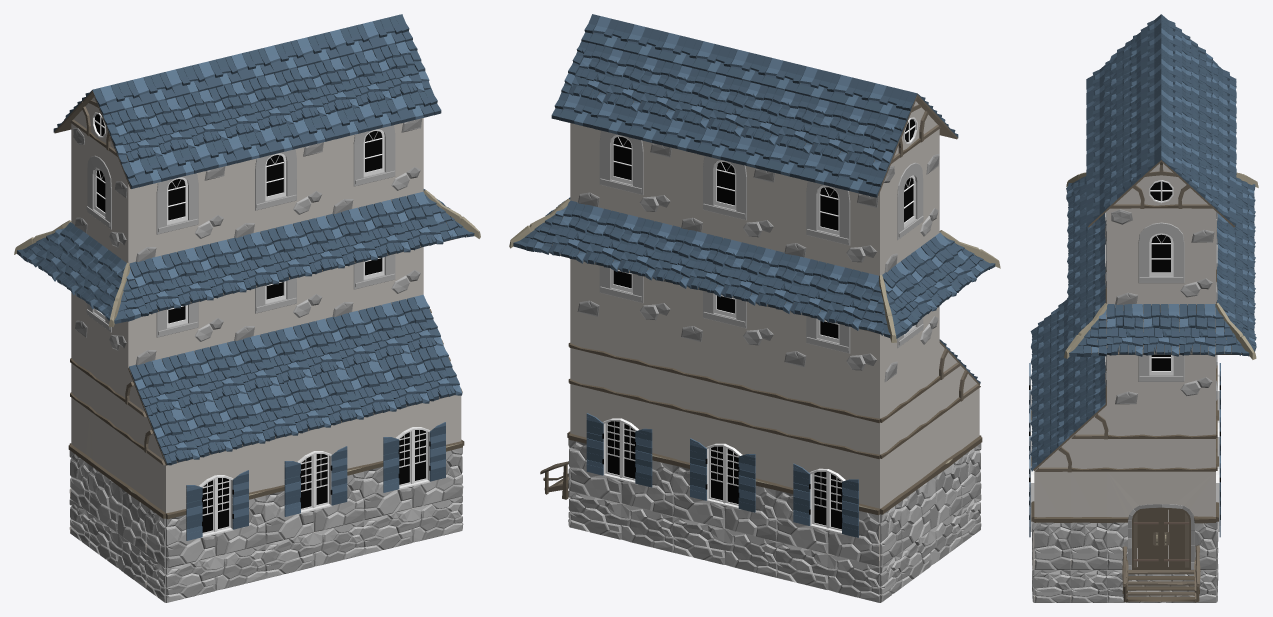
Rendered from house_18.fbx.
3 views of the same model, side by side, from view 1: azimuth 30°, elevation 25°; view 2: azimuth 150°, elevation 25°; view 3: azimuth 270°, elevation 25° (orthographic). The views are drawn at different scales.
Visible parts, largest first — view 1: WINDOW_03_5, WINDOW_03_3, WINDOW_03_4, WINDOW_07_11, WINDOW_07_12, WINDOW_07_13, WALL_01_14, WINDOW_07_18, WINDOW_07_6, WINDOW_07_5, WINDOW_07_4, FOUNDATION_01_2 (+75 smaller); view 2: WINDOW_03_8, WINDOW_03_7, WINDOW_03_6, WINDOW_07_17, WINDOW_07_16, WINDOW_07_15, WALL_01_14, WINDOW_07_18, WINDOW_07_8, WINDOW_07_7, WINDOW_07_9, FOUNDATION_01_8 (+75 smaller); view 3: DOOR_04_3, WINDOW_07_14, WINDOW_07_10, WALL_04_21, WALL_04_22, STAIRS_01_2, ROOF_base_105, ROOF_base_104, ROOF_base_103, FOUNDATION_01_5, ROOF_CORNER_OUT_6, ROOF_CORNER_OUT_7 (+81 smaller).
Boxes of the visible parts, bbox=[...] form: WINDOW_03_5: bbox=[363, 395, 462, 520]; WINDOW_03_3: bbox=[165, 443, 266, 568]; WINDOW_03_4: bbox=[264, 419, 364, 544]; WINDOW_07_11: bbox=[128, 166, 226, 262]; WINDOW_07_12: bbox=[226, 142, 324, 240]; WINDOW_07_13: bbox=[325, 118, 423, 216]; WALL_01_14: bbox=[87, 411, 147, 553]; WINDOW_07_18: bbox=[71, 123, 130, 263]; WINDOW_07_6: bbox=[325, 247, 423, 319]; WINDOW_07_5: bbox=[226, 271, 324, 343]; WINDOW_07_4: bbox=[128, 295, 226, 366]; FOUNDATION_01_2: bbox=[166, 544, 265, 602]; WINDOW_03_8: bbox=[775, 434, 881, 566]; WINDOW_03_7: bbox=[672, 409, 776, 541]; WINDOW_03_6: bbox=[568, 384, 673, 516]; WINDOW_07_17: bbox=[776, 173, 881, 275]; WINDOW_07_16: bbox=[673, 148, 776, 251]; WINDOW_07_15: bbox=[570, 123, 673, 225]; WALL_01_14: bbox=[900, 402, 962, 551]; WINDOW_07_18: bbox=[878, 129, 939, 275]; WINDOW_07_8: bbox=[673, 284, 776, 361]; WINDOW_07_7: bbox=[570, 259, 673, 336]; WINDOW_07_9: bbox=[776, 309, 879, 385]; FOUNDATION_01_8: bbox=[775, 542, 880, 602]; DOOR_04_3: bbox=[1107, 471, 1215, 569]; WINDOW_07_14: bbox=[1107, 208, 1215, 305]; WINDOW_07_10: bbox=[1107, 355, 1215, 405]; WALL_04_21: bbox=[1070, 471, 1106, 569]; WALL_04_22: bbox=[1034, 471, 1070, 569]; STAIRS_01_2: bbox=[1122, 545, 1200, 602]; ROOF_base_105: bbox=[1179, 304, 1215, 356]; ROOF_base_104: bbox=[1143, 304, 1179, 356]; ROOF_base_103: bbox=[1106, 304, 1143, 356]; FOUNDATION_01_5: bbox=[1107, 570, 1215, 602]; ROOF_CORNER_OUT_6: bbox=[1064, 303, 1107, 358]; ROOF_CORNER_OUT_7: bbox=[1215, 303, 1256, 359].
Bounding box in the file's own units: 1137 × 1359 × 633.
